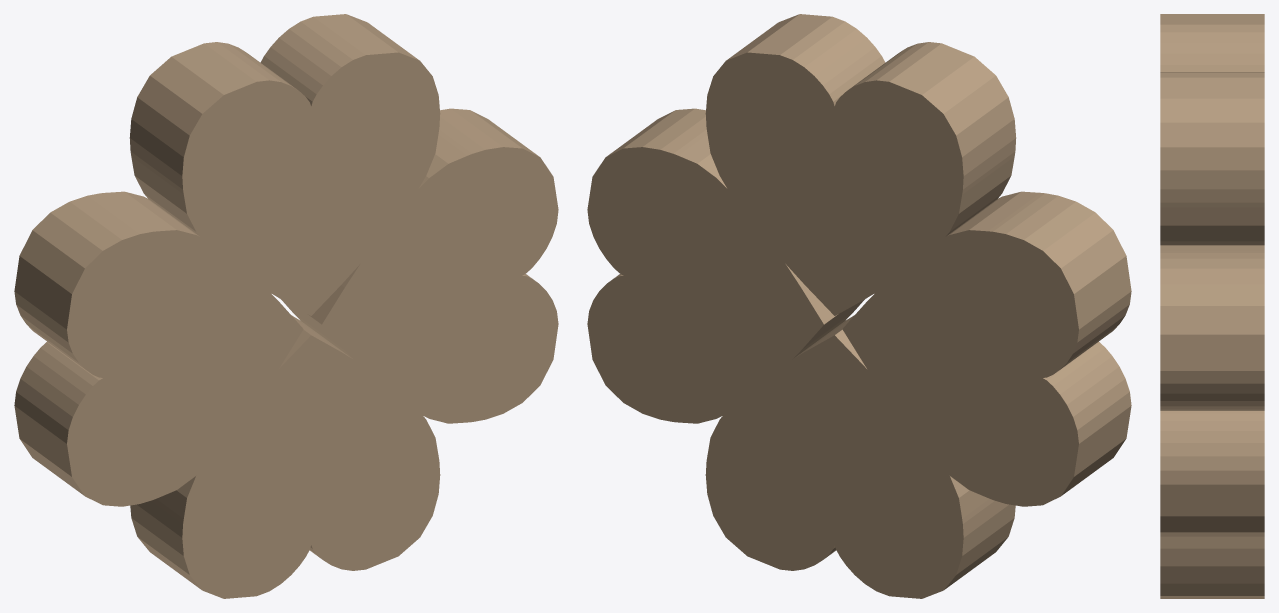
Rendered from Exquisite Vihelmo-Borwo.glb.
The picture shows the model from 3 angles, left to right: view 1: azimuth 30°, elevation 25°; view 2: azimuth 150°, elevation 25°; view 3: azimuth 270°, elevation 25°; orthographic projection.
Parts seen in each view (by area): view 1: Mesh_Mesh_head_geo.001_lambert2SG.001; view 2: Mesh_Mesh_head_geo.001_lambert2SG.001; view 3: Mesh_Mesh_head_geo.001_lambert2SG.001.
Part boxes in pixels (x1,y1,x2,y2): Mesh_Mesh_head_geo.001_lambert2SG.001: (14,14,558,598); Mesh_Mesh_head_geo.001_lambert2SG.001: (587,14,1131,598); Mesh_Mesh_head_geo.001_lambert2SG.001: (1160,14,1264,598).
Bounding box in the file's own units: 54 × 54 × 10.
